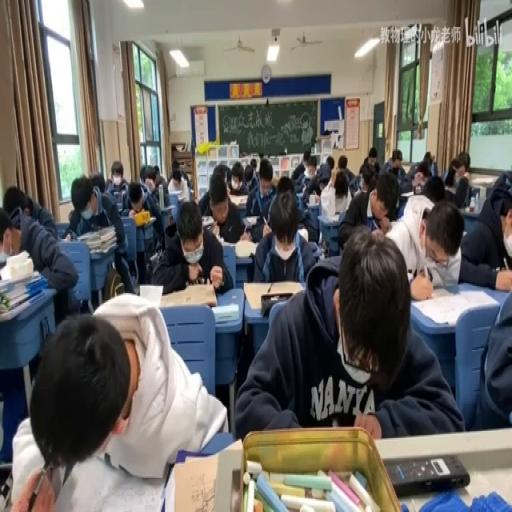calculator: (84, 461, 166, 512), (384, 454, 470, 496), (410, 287, 494, 330), (169, 453, 220, 512), (242, 280, 302, 309), (158, 282, 217, 308), (0, 266, 39, 294), (212, 302, 238, 324), (138, 283, 163, 304), (234, 238, 258, 258), (158, 204, 174, 228), (227, 194, 247, 208), (322, 212, 340, 225), (134, 215, 154, 226), (202, 216, 215, 232), (148, 248, 160, 264), (295, 225, 307, 240), (244, 214, 260, 224), (306, 195, 320, 206), (114, 195, 123, 212), (400, 189, 413, 198), (401, 164, 411, 174)
paper: (11, 292, 226, 508), (237, 229, 456, 439), (0, 192, 78, 326), (383, 186, 461, 293), (68, 170, 130, 296), (149, 198, 230, 293), (457, 170, 512, 288), (251, 188, 318, 278), (339, 165, 396, 252), (124, 178, 163, 262), (398, 149, 432, 192), (443, 151, 472, 199), (307, 154, 337, 198), (166, 160, 190, 204), (358, 148, 382, 188), (2, 186, 30, 220), (106, 161, 130, 196), (290, 150, 312, 186), (422, 173, 446, 202), (486, 179, 510, 202), (213, 162, 232, 186), (276, 174, 294, 196), (294, 186, 308, 212), (258, 158, 272, 183), (89, 171, 105, 192), (348, 171, 362, 195), (332, 171, 346, 195), (244, 163, 254, 185), (139, 165, 148, 186), (230, 171, 242, 186), (338, 155, 347, 171), (392, 150, 402, 164), (430, 160, 438, 176), (325, 155, 334, 169), (154, 168, 160, 183), (303, 158, 310, 169), (250, 156, 256, 168), (173, 174, 180, 184)
person: (230, 466, 242, 510), (318, 238, 328, 256), (414, 184, 422, 194)
